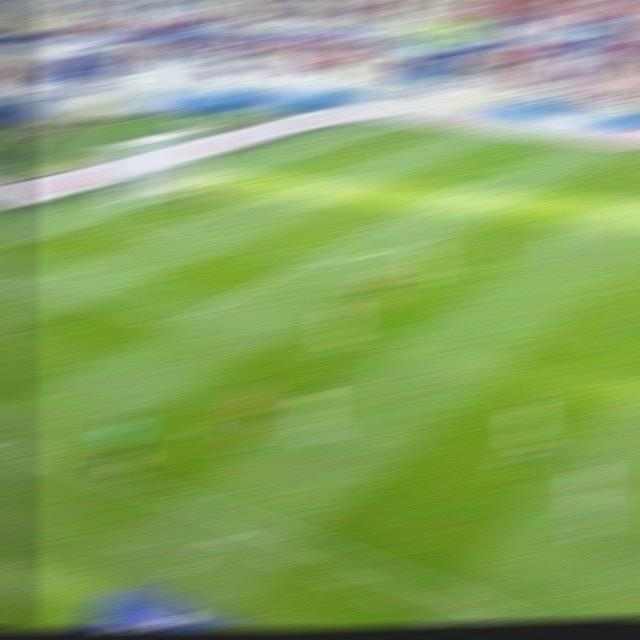bigarea_bottom_inner: (158, 309, 196, 331)
bigarea_top_inner: (466, 167, 500, 184)
bigarea_top_outter: (296, 144, 332, 158)
bottom_arc_area_intersection: (292, 250, 329, 268)
corner: (367, 123, 402, 133)
smallarea_bottom_inner: (128, 229, 164, 246)
smallarea_bottom_outter: (64, 214, 100, 232)
smallarea_top_inner: (276, 175, 315, 192)
smallarea_top_outter: (227, 166, 263, 180)
top_arc_area_intersection: (397, 200, 436, 219)
